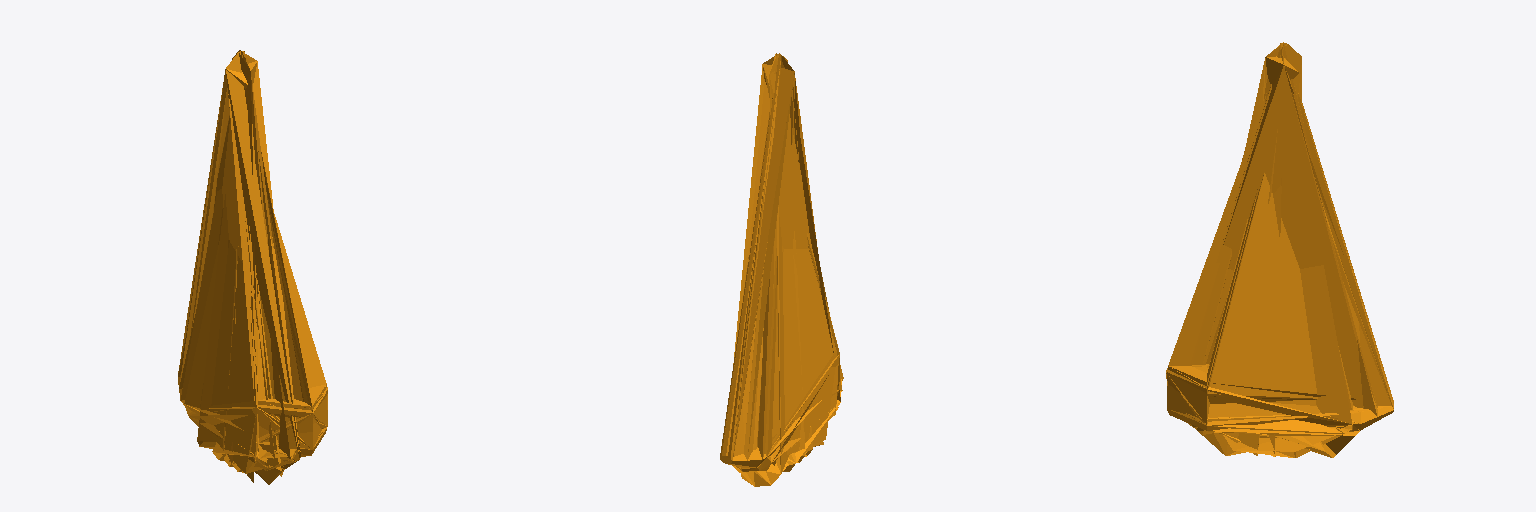
The model's file is light.obj.
3 views of the same model, side by side, from view 1: azimuth 30°, elevation 25°; view 2: azimuth 150°, elevation 25°; view 3: azimuth 270°, elevation 25° (orthographic).
Parts seen in each view (by area): view 1: Line01, Line55, Sphere01, Line53, Loft11, LOFT11; view 2: Line01, Sphere01, Loft11, Line55, LOFT05; view 3: Line01, Line55, Sphere01, LOFT11, Loft11, Line53.
Boxes of the visible parts, box(x1,y1,x2,y2) form: Line01: box(178, 50, 311, 484); Line55: box(242, 51, 327, 411); Sphere01: box(179, 53, 325, 408); Line53: box(257, 384, 327, 454); Loft11: box(178, 50, 327, 442); LOFT11: box(259, 387, 327, 449); Line01: box(727, 56, 843, 486); Sphere01: box(722, 54, 839, 467); Loft11: box(731, 53, 839, 471); Line55: box(720, 57, 830, 456); LOFT05: box(720, 55, 839, 486); Line01: box(1186, 43, 1393, 457); Line55: box(1166, 44, 1393, 430); Sphere01: box(1203, 43, 1393, 429); LOFT11: box(1167, 364, 1207, 424); Loft11: box(1166, 42, 1393, 430); Line53: box(1166, 366, 1206, 430).
Size of the model in its own units: 70.05 by 383 by 192.